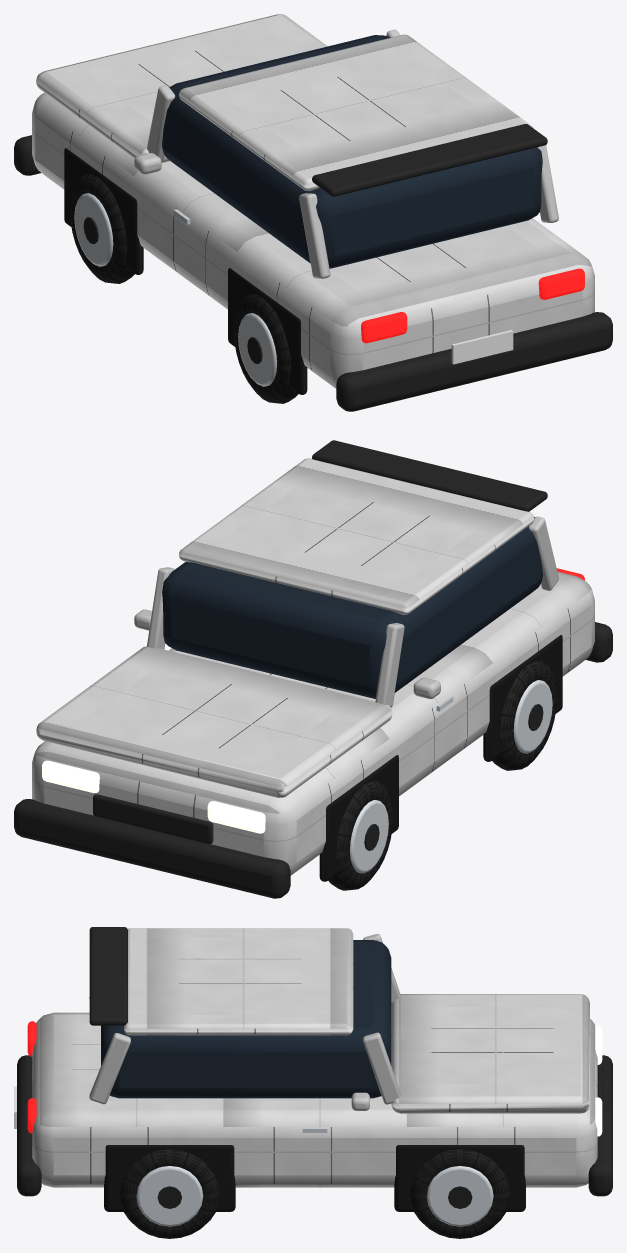
Rendered from car_hatch.glb.
3 views of the same model, one above another, from view 1: azimuth 30°, elevation 25°; view 2: azimuth 150°, elevation 25°; view 3: azimuth 270°, elevation 25° (orthographic). The views are drawn at different scales.
Parts seen in each view (by area): view 1: Body, WheelBL, WheelFL, Taillights; view 2: Body, WheelBL, WheelFL; view 3: Body, WheelFR, WheelBR, Taillights.
Boxes of the visible parts, x1,y1,x2,y2 form: Body: (14, 14, 612, 411); WheelBL: (234, 294, 298, 403); WheelFL: (70, 174, 134, 283); Taillights: (361, 268, 584, 343); Body: (14, 440, 612, 898); WheelBL: (492, 661, 556, 770); WheelFL: (328, 781, 392, 890); Body: (14, 927, 612, 1211); WheelFR: (410, 1149, 509, 1238); WheelBR: (120, 1149, 219, 1238); Taillights: (27, 1021, 36, 1133).
Size of the model in its own units: 2.01 by 1.52 by 3.92.
Materials: 9 (2 with a texture image).
